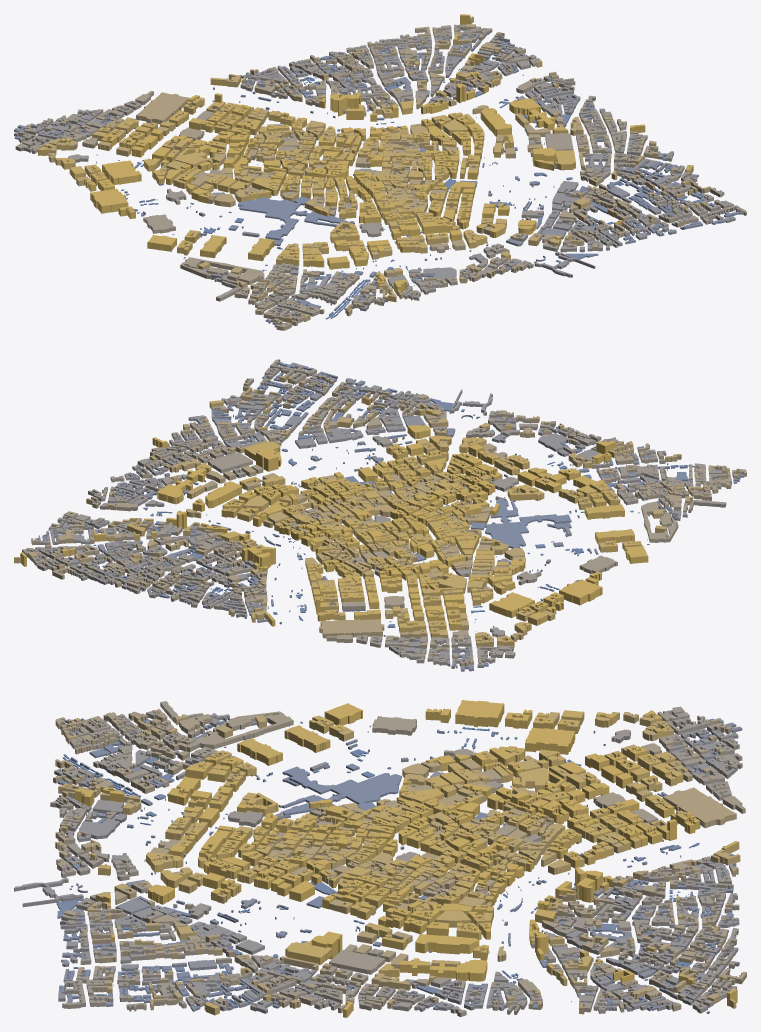
File: buildings.glb
3 renders of one model, top to bottom at view 1: azimuth 30°, elevation 25°; view 2: azimuth 150°, elevation 25°; view 3: azimuth 270°, elevation 25°, orthographic. The views are drawn at different scales.
Parts seen in each view (by area): view 1: buildings; view 2: buildings; view 3: buildings.
Boxes of the visible parts, <box> form: buildings: <box>14,14,746,330</box>; buildings: <box>14,359,746,671</box>; buildings: <box>14,700,746,1017</box>.
Bounding box in the file's own units: 2598 × 96.2 × 2635.
